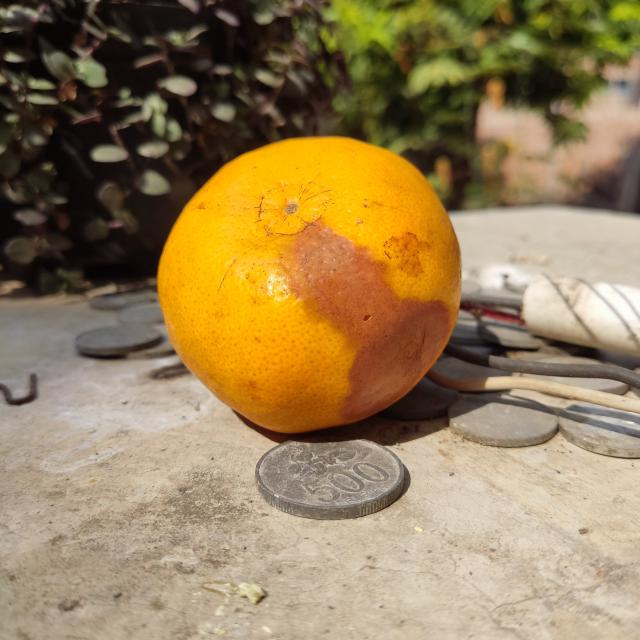orange: (152, 133, 464, 432)
